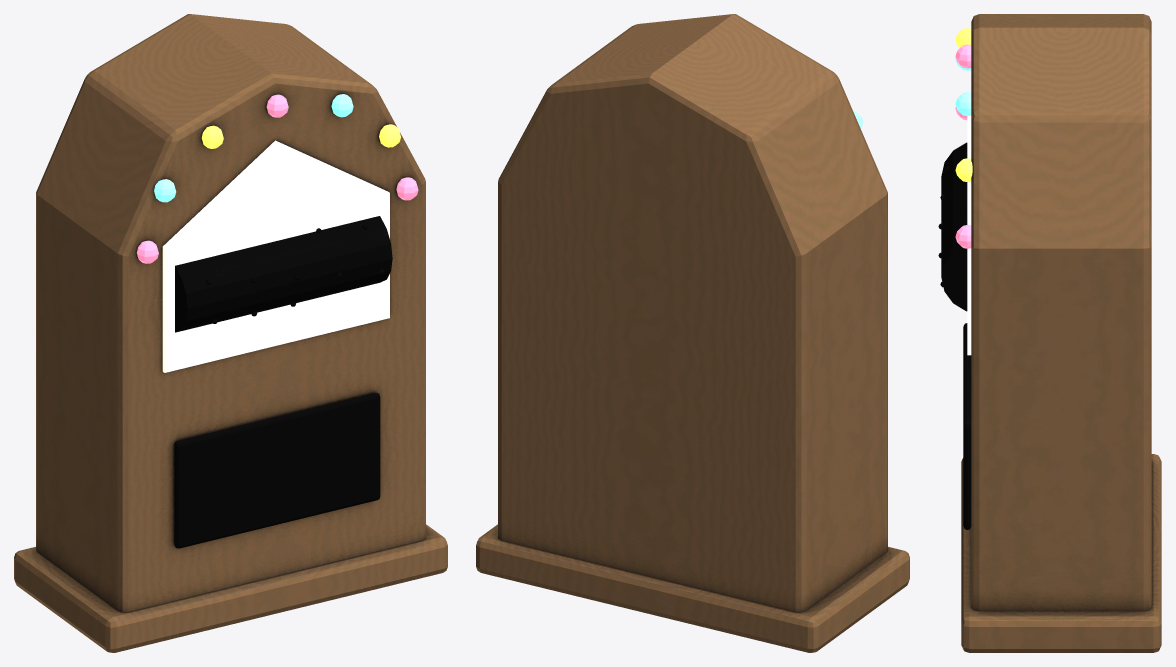
Rendered from deco_jukebox.glb.
The picture shows the model from 3 angles, left to right: view 1: azimuth 30°, elevation 25°; view 2: azimuth 150°, elevation 25°; view 3: azimuth 270°, elevation 25°; orthographic projection.
Visible parts, largest first — view 1: deco_jukebox_tronco, visor; view 2: deco_jukebox_tronco; view 3: deco_jukebox_tronco, visor, luz1.
Part boxes in pixels (x1=…): deco_jukebox_tronco: x1=14, y1=14, x2=447, y2=652; visor: x1=162, y1=140, x2=389, y2=372; deco_jukebox_tronco: x1=476, y1=14, x2=909, y2=652; deco_jukebox_tronco: x1=938, y1=14, x2=1161, y2=652; visor: x1=967, y1=115, x2=971, y2=355; luz1: x1=955, y1=158, x2=972, y2=181.
Bounding box in the file's own units: 1 × 1.5 × 0.5574.
Materials: 9 (1 with a texture image).
